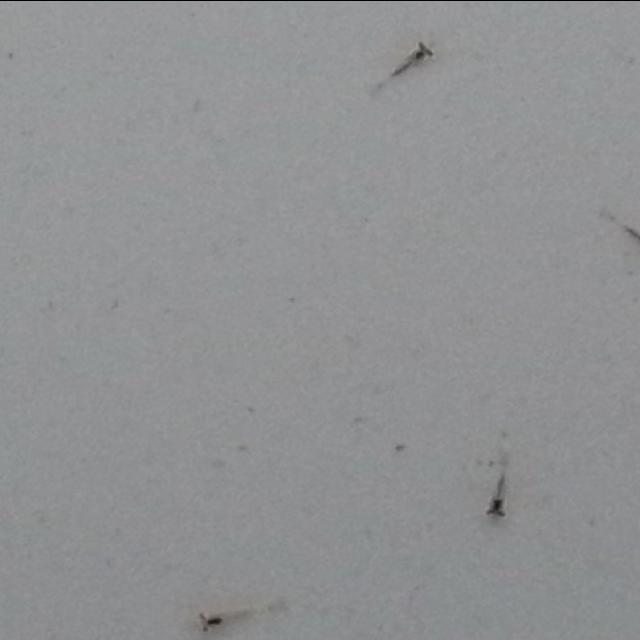shrimp-seed: (390, 39, 434, 78), (486, 483, 508, 519), (194, 611, 224, 633)
